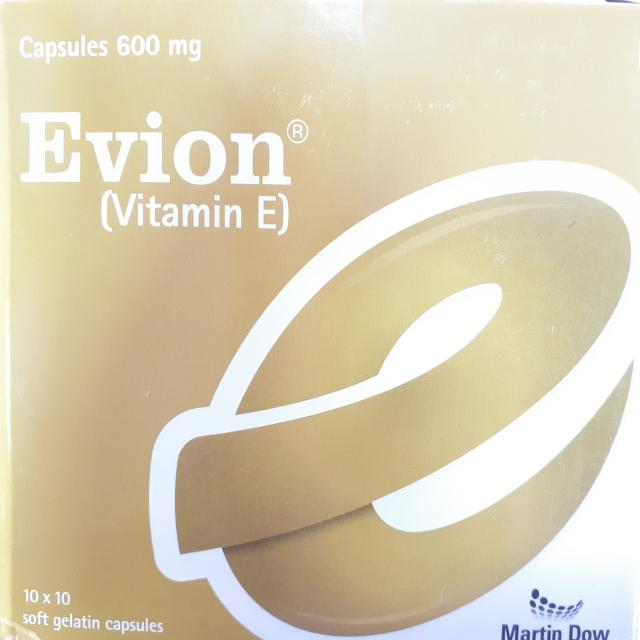drug-name: (10, 108, 296, 190)
